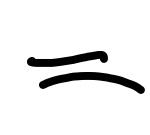eqv: (27, 51, 145, 94)
